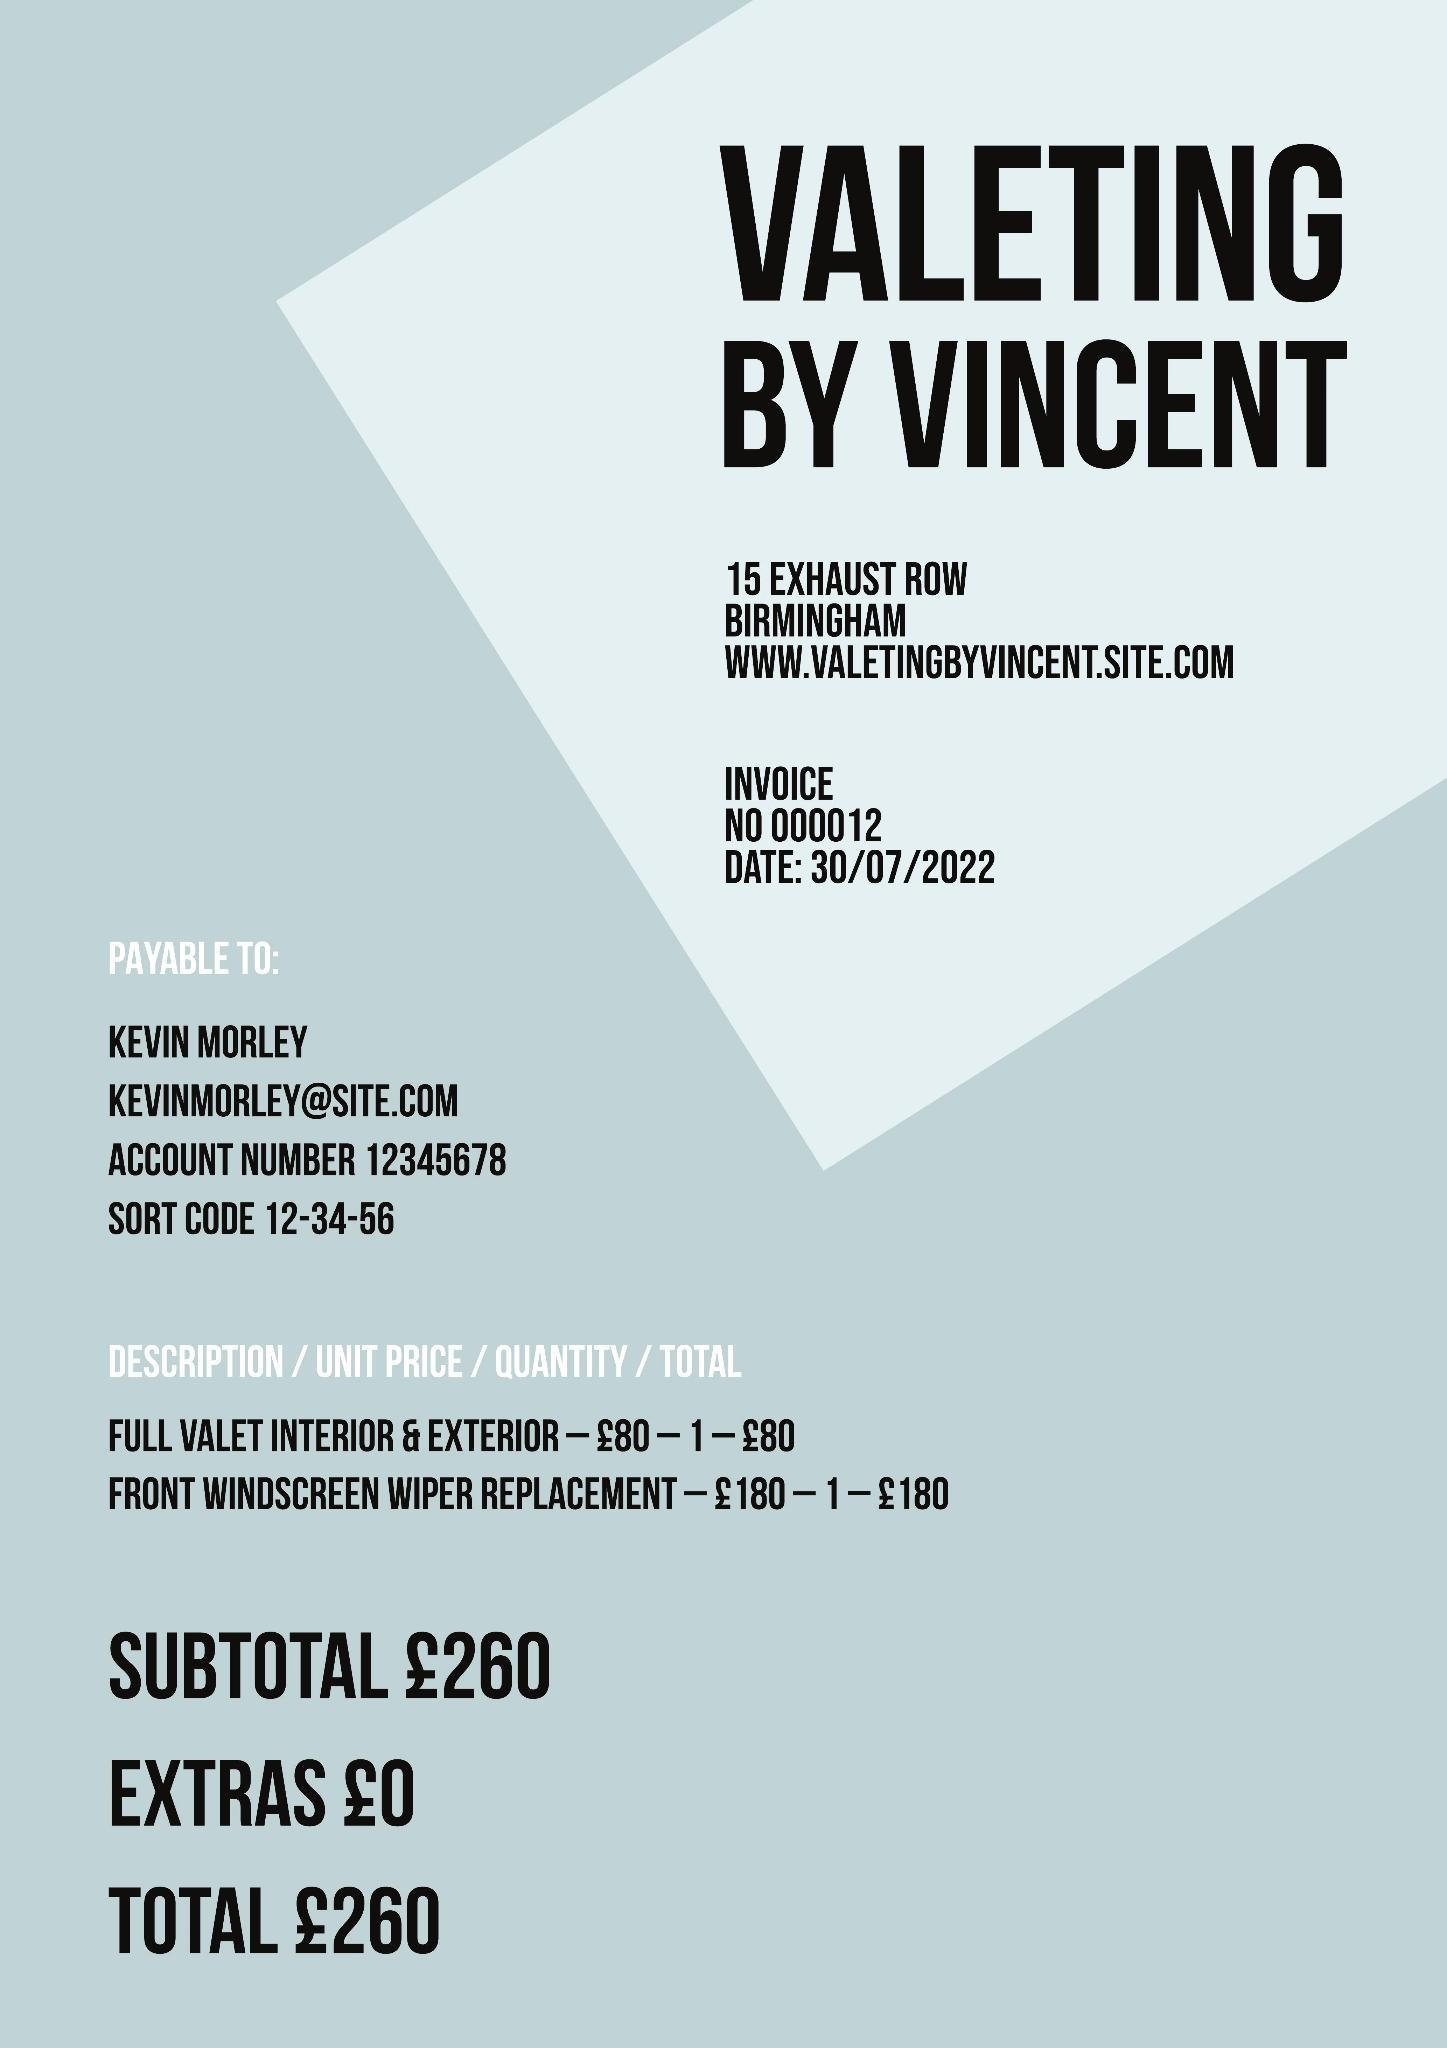ROI: (706, 124, 1379, 485), (83, 1305, 976, 1546), (89, 1613, 609, 1980), (89, 912, 529, 1262), (699, 534, 1267, 714), (696, 751, 1039, 917)
